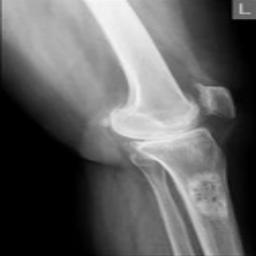cancer: (187, 171, 229, 219)
